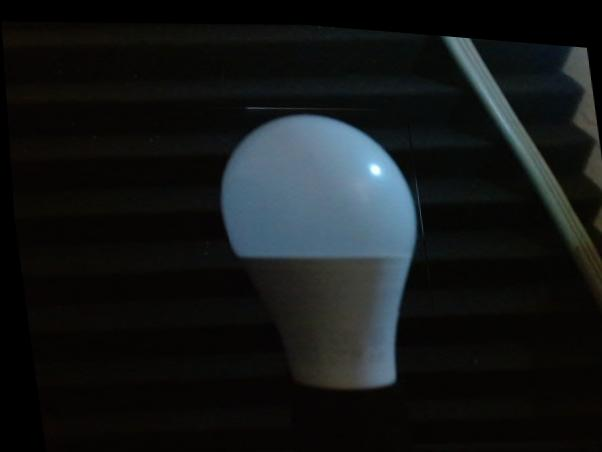Fan: (208, 89, 430, 318)
